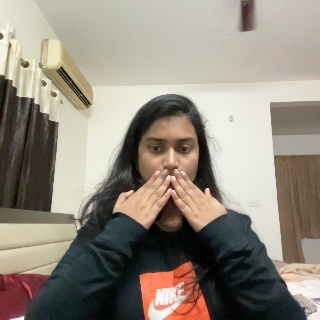Thank You: (111, 169, 238, 234)
